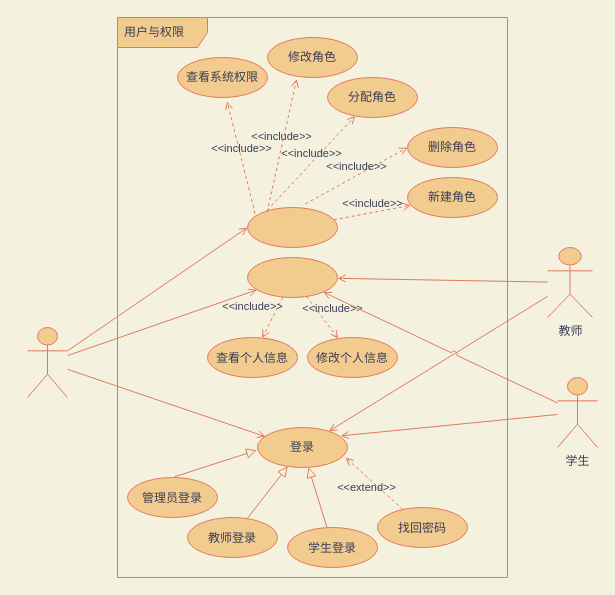
Image size: 615x595. Some labels were removed from this diagram. Each missing label, with the centre of its shape:
"个人信息" goes at point (292, 277).
"权限管理" goes at point (292, 227).
"系统管理员" goes at point (47, 362).
